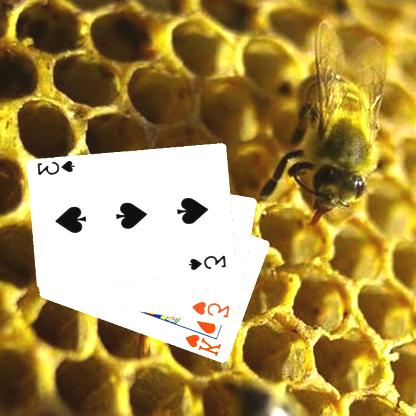3H: (191, 300, 233, 320)
3S: (36, 158, 78, 177), (188, 253, 229, 272)
KH: (184, 332, 224, 358)
